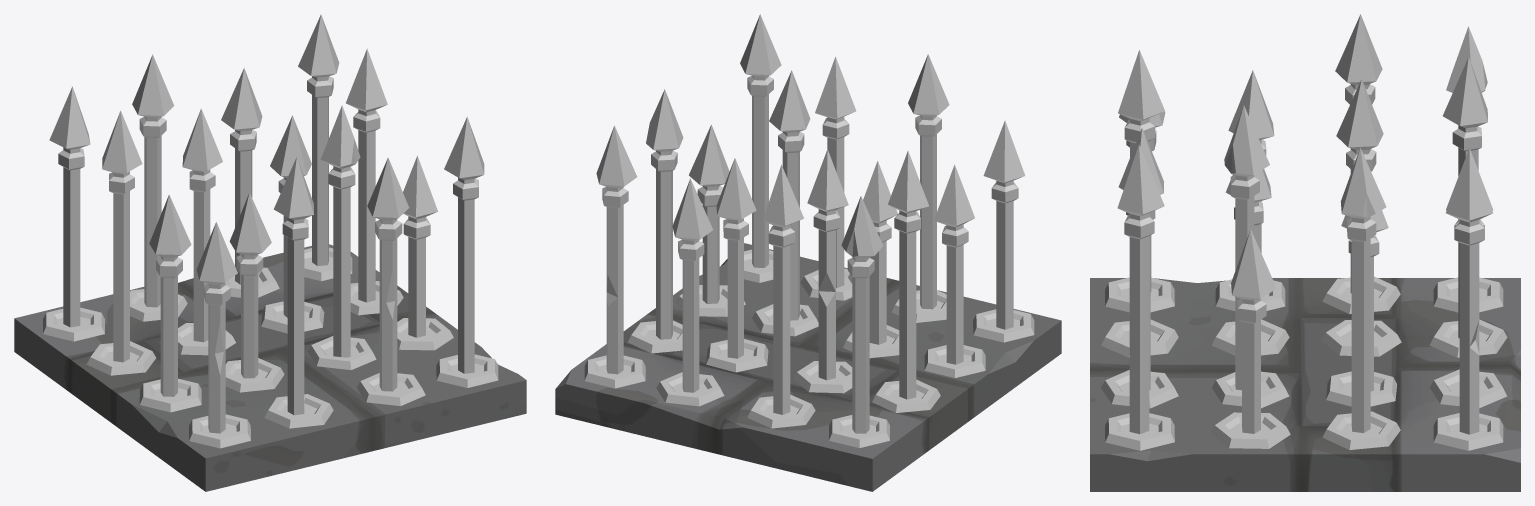
Rendered from SM_Prop_Trap_Floor_01.fbx.
3 views of the same model, side by side, from view 1: azimuth 30°, elevation 25°; view 2: azimuth 150°, elevation 25°; view 3: azimuth 270°, elevation 25° (orthographic). The views are drawn at different scales.
Visible parts, largest first — view 1: SM_Prop_Trap_Floor_01; view 2: SM_Prop_Trap_Floor_01; view 3: SM_Prop_Trap_Floor_01.
Boxes of the visible parts, x1,y1,x2,y2 form: SM_Prop_Trap_Floor_01: [14, 14, 526, 491]; SM_Prop_Trap_Floor_01: [555, 14, 1061, 491]; SM_Prop_Trap_Floor_01: [1090, 14, 1520, 491].
Bounding box in the file's own units: 119 × 103 × 123.
